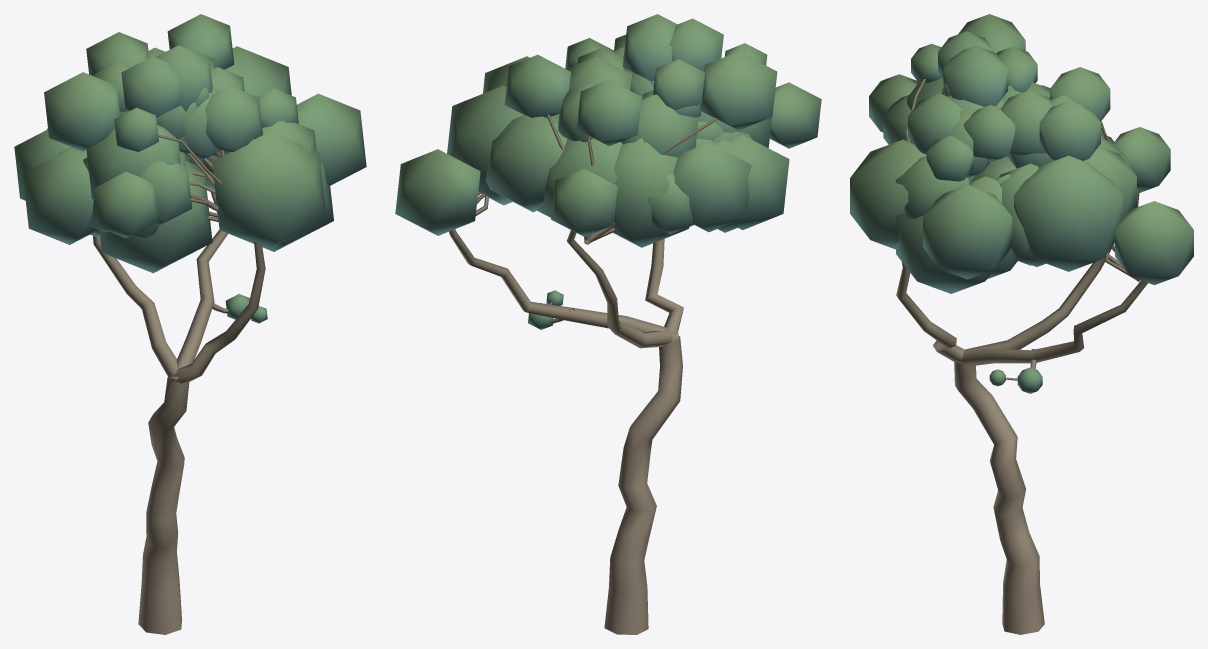
File: seed_tree_d.glb
3 renders of one model, left to right at view 1: azimuth 30°, elevation 25°; view 2: azimuth 150°, elevation 25°; view 3: azimuth 270°, elevation 25°, orthographic. The views are drawn at different scales.
Parts seen in each view (by area): view 1: seed_tree_d_LOD0; view 2: seed_tree_d_LOD0; view 3: seed_tree_d_LOD0.
Boxes of the visible parts, x1=… form: seed_tree_d_LOD0: x1=14, y1=14, x2=366, y2=634; seed_tree_d_LOD0: x1=395, y1=14, x2=821, y2=634; seed_tree_d_LOD0: x1=850, y1=14, x2=1193, y2=634.
Size of what is drawn, in the model's own units: 7.1 by 12.9 by 6.95.
